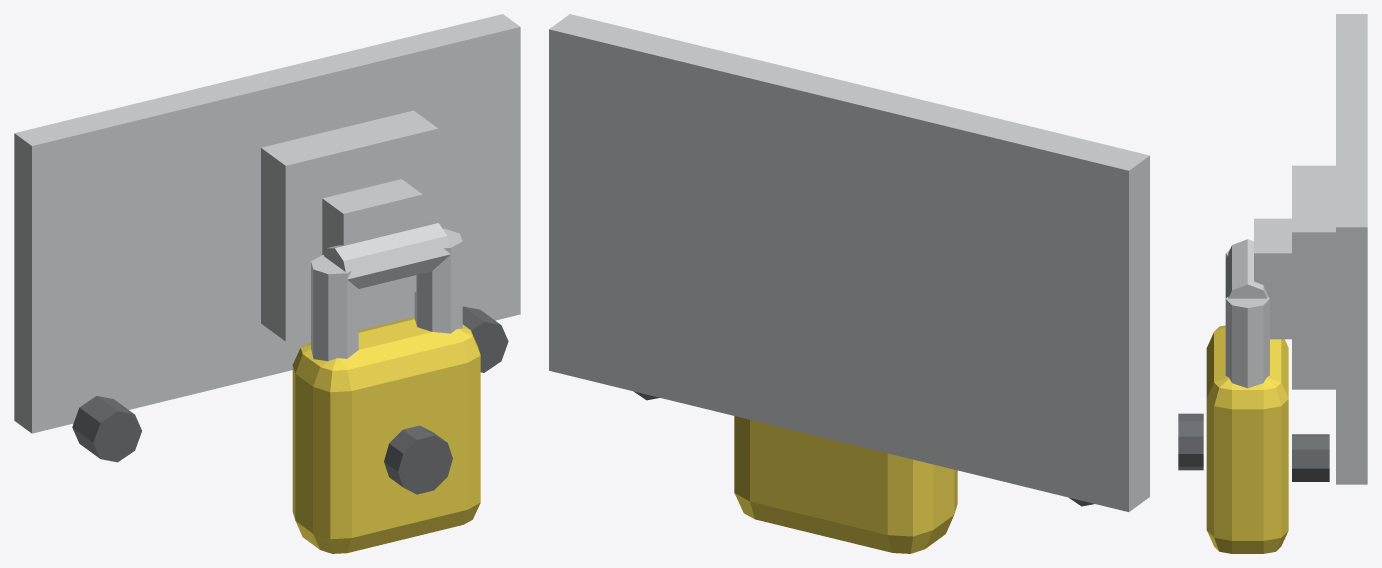
Rendered from self-storage-facility-and-loading-bay-self-storage-fac-49a132e0__34703.glb.
The picture shows the model from 3 angles, left to right: view 1: azimuth 30°, elevation 25°; view 2: azimuth 150°, elevation 25°; view 3: azimuth 270°, elevation 25°; orthographic projection. The views are drawn at different scales.
Visible parts, largest first — view 1: self-storage-facility-and-loading-bay-padlock-and-hasp; view 2: self-storage-facility-and-loading-bay-padlock-and-hasp; view 3: self-storage-facility-and-loading-bay-padlock-and-hasp.
Boxes of the visible parts, bbox=[...] form: self-storage-facility-and-loading-bay-padlock-and-hasp: bbox=[14, 14, 520, 553]; self-storage-facility-and-loading-bay-padlock-and-hasp: bbox=[549, 14, 1149, 553]; self-storage-facility-and-loading-bay-padlock-and-hasp: bbox=[1178, 14, 1367, 553].
Size of the model in its own units: 0.16 by 0.133 by 0.06.
